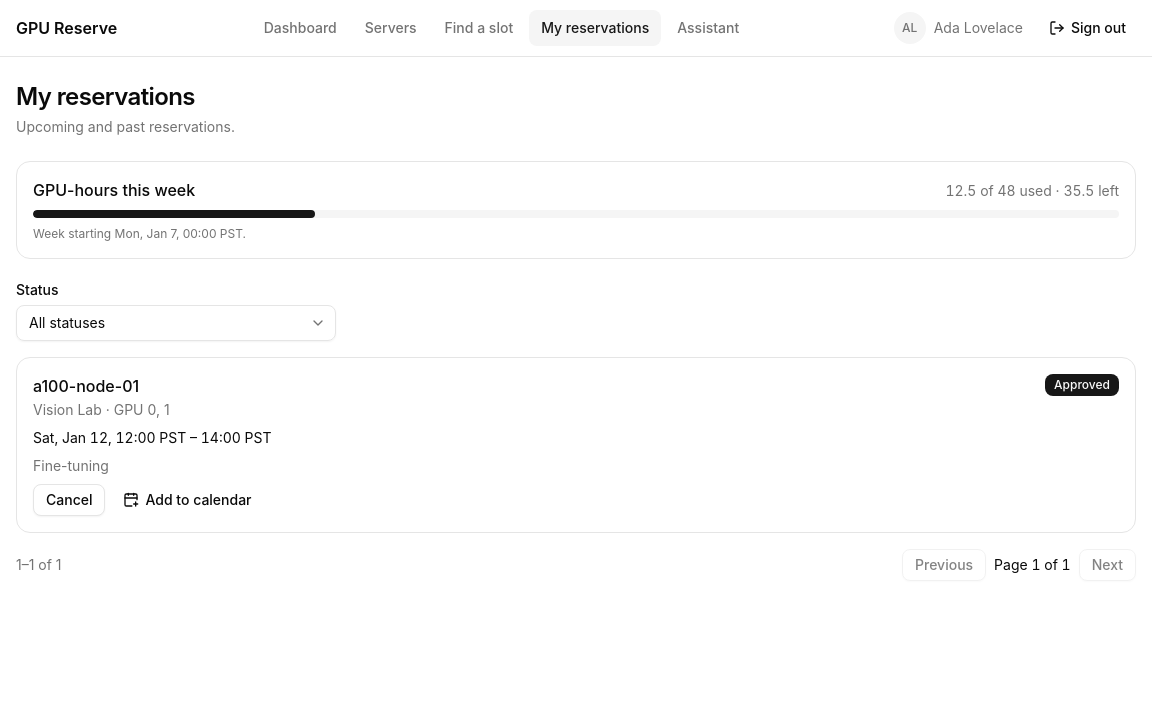
Test case: my reservations page › explains a failed calendar download on the reservation
The width and height of the screenshot is (1152, 720).
Click the button "Add to calendar": (188, 500) [114,484,262,516]
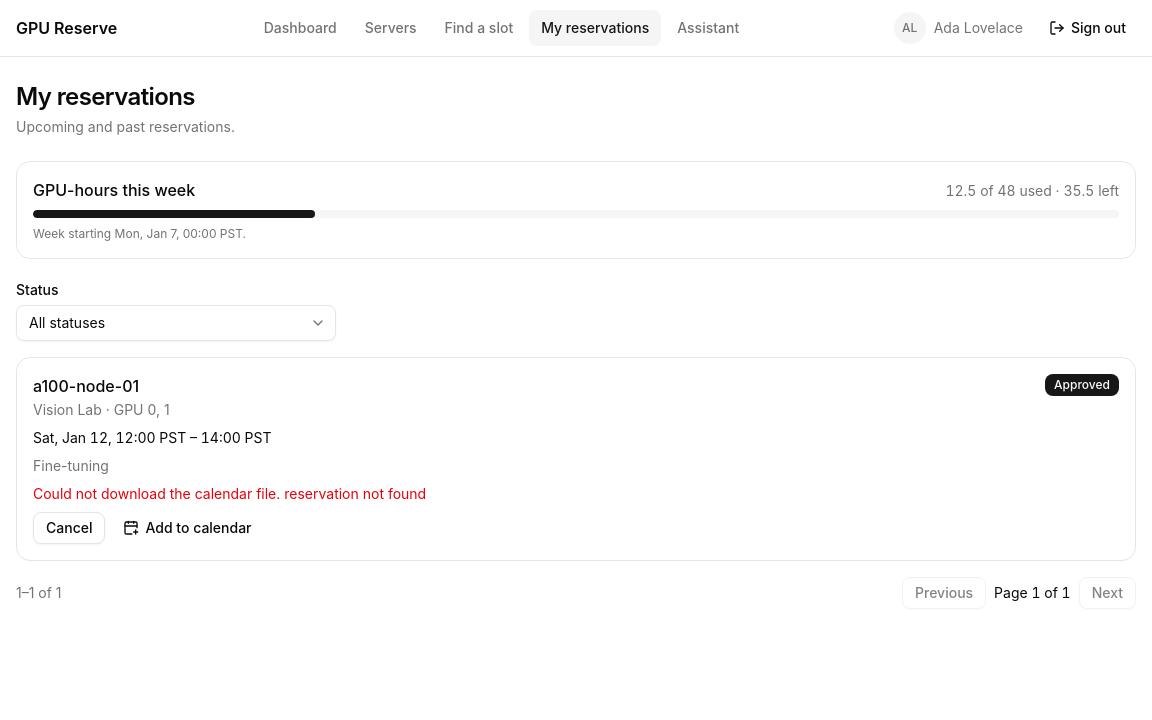
Expected: the message shows "Could not download the calendar file.", [33,485,426,502]
